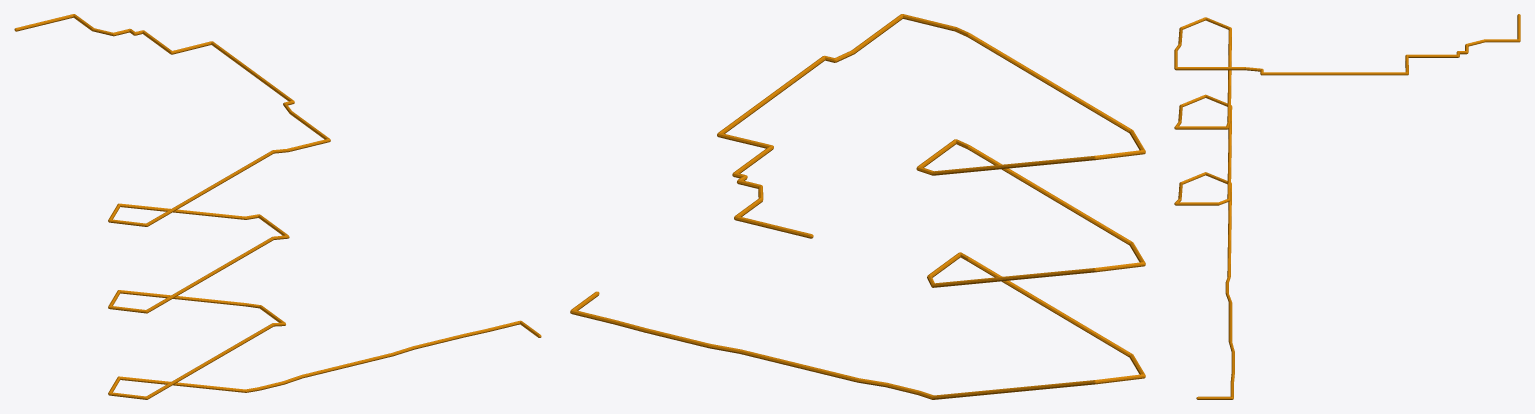
The picture shows the model from 3 angles, left to right: view 1: azimuth 30°, elevation 25°; view 2: azimuth 150°, elevation 25°; view 3: azimuth 270°, elevation 25°; orthographic projection. The views are drawn at different scales.
Size of the model in its own units: 2595 by 1520 by 2028.
